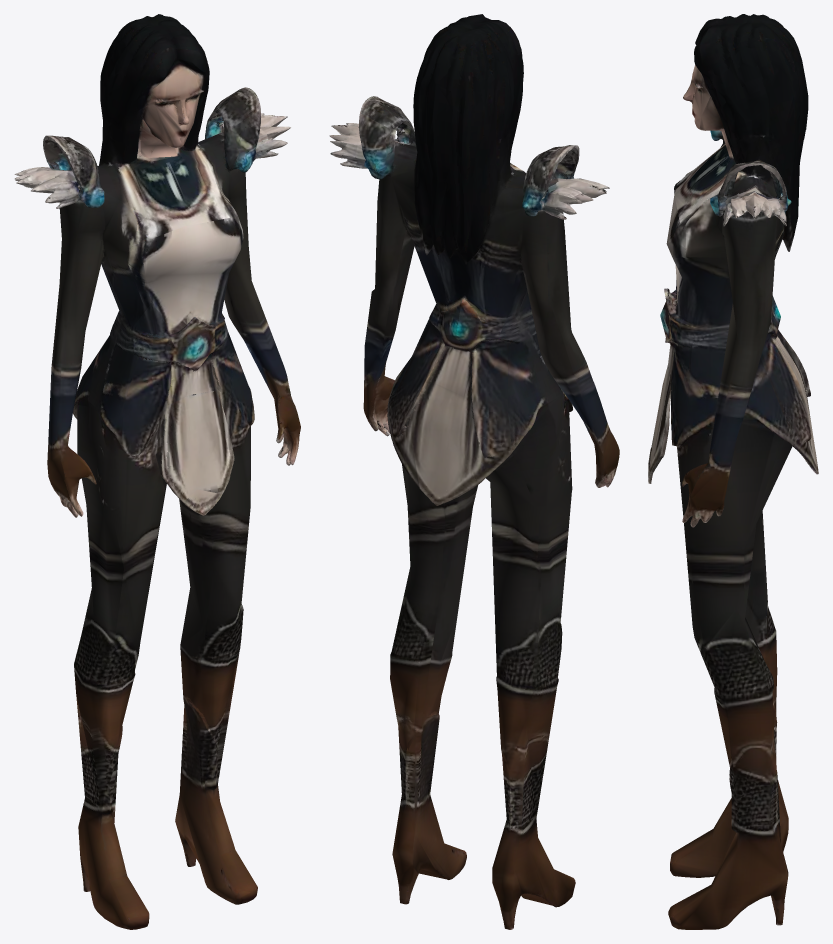
Rendered from alsius-nordo-female-archer.glb.
3 views of the same model, side by side, from view 1: azimuth 30°, elevation 25°; view 2: azimuth 150°, elevation 25°; view 3: azimuth 270°, elevation 25° (orthographic).
Parts seen in each view (by area): view 1: model; view 2: model; view 3: model.
Part boxes in pixels (x1,y1,x2,y2): model: (14,14,300,929); model: (329,14,619,929); model: (648,14,818,929).
Bounding box in the file's own units: 0.6234 × 1.9 × 0.3335.
1 material, 1 textured.
